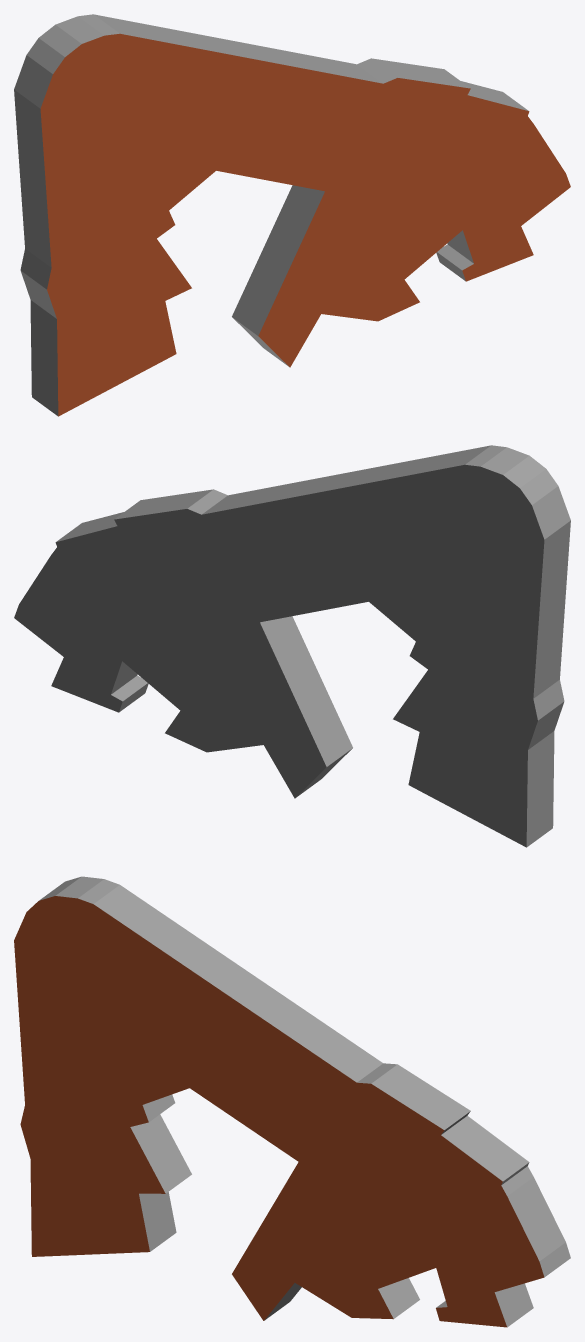
Rendered from construction_2934_assumed_A_Casa_h6m.obj.
3 views of the same model, one above another, from view 1: azimuth 30°, elevation 25°; view 2: azimuth 150°, elevation 25°; view 3: azimuth 330°, elevation 25° (orthographic).
Visible parts, largest first — view 1: construction_2934_assumed_A_Casa; view 2: construction_2934_assumed_A_Casa; view 3: construction_2934_assumed_A_Casa.
Part boxes in pixels (x1=…): construction_2934_assumed_A_Casa: x1=14, y1=14, x2=570, y2=416; construction_2934_assumed_A_Casa: x1=14, y1=445, x2=570, y2=847; construction_2934_assumed_A_Casa: x1=14, y1=876, x2=570, y2=1327.
Size of the model in its own units: 69.3 by 47.12 by 6.
